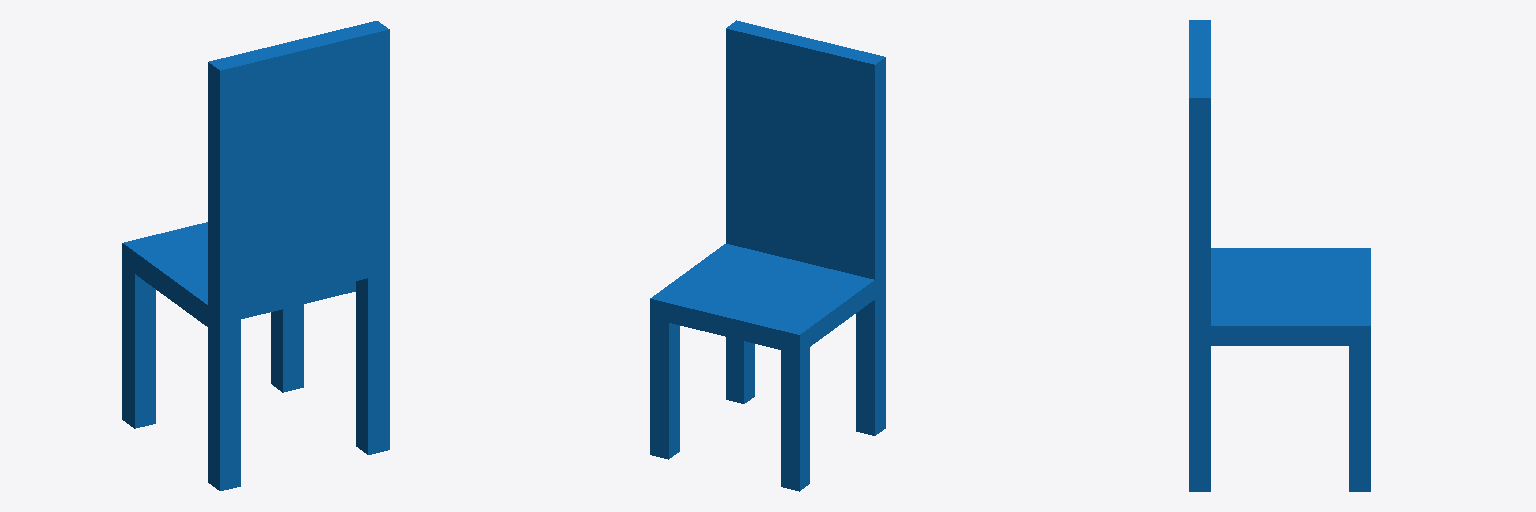
robot.urdf — cube:
<?xml version="0.0" ?>
<robot name="cube">
  <link name="baseLink">
    <contact>
      <lateral_friction value="1.0"/>
      <rolling_friction value="0.0"/>
      <contact_cfm value="0.0"/>
      <contact_erp value="1.0"/>
    </contact>
    <inertial>
      <mass value="5.020"/>
      <origin rpy="0 0 0" xyz="0 0 0"/>
      <inertia ixx="3e-06" ixy="0" ixz="0" iyy="3e-06" iyz="0" izz="3e-06"/>
    </inertial>
    <visual>
      <origin rpy="0 0 0" xyz="0 0 0"/>
      <geometry>
        <mesh filename="silla1.obj"/>
      </geometry>
      <material name="white">
        <color rgba="0.1 0.5 0.8 1"/>
      </material>
    </visual>
    <collision>
      <origin rpy="0 0 0" xyz="0 0 0"/>
      <geometry>
        <mesh filename="silla1.obj"/>
      </geometry>
    </collision>
  </link>
</robot>

--- Facts derived from the render (not from the file) ---
The picture shows the robot from 3 angles, left to right: view 1: azimuth 30°, elevation 25°; view 2: azimuth 150°, elevation 25°; view 3: azimuth 270°, elevation 25°; orthographic projection.
Robot: cube — 1 links, 0 joints (none); root link baseLink; default pose: every joint at zero.
Links seen in each view (by area): view 1: baseLink; view 2: baseLink; view 3: baseLink.
Link boxes in pixels (x1,y1,x2,y2): baseLink: [122, 21, 389, 490]; baseLink: [650, 20, 885, 491]; baseLink: [1189, 20, 1370, 491].
Size in the robot's own frame: 400 by 400 by 950 metres.
Meshes: 1 distinct files referenced, 1 mesh visuals loaded (1 OBJ).